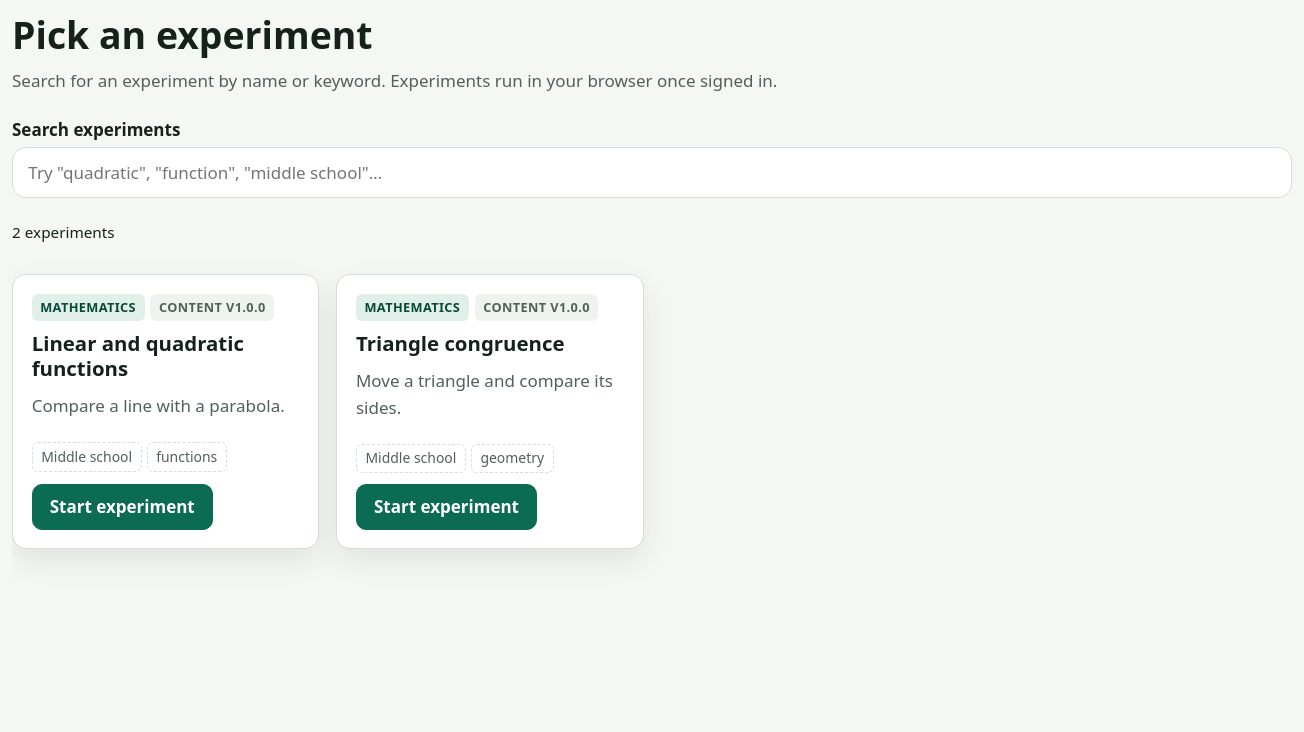
Test: experiment catalog › filters the tool list by what the teacher types
This screenshot has width=1304, height=732.
Expected: the text "2 experiments" is shown, [12,220,115,244]
Type "triangle" into the search field. click: {"x": 652, "y": 173}
box: [12,147,1292,198]
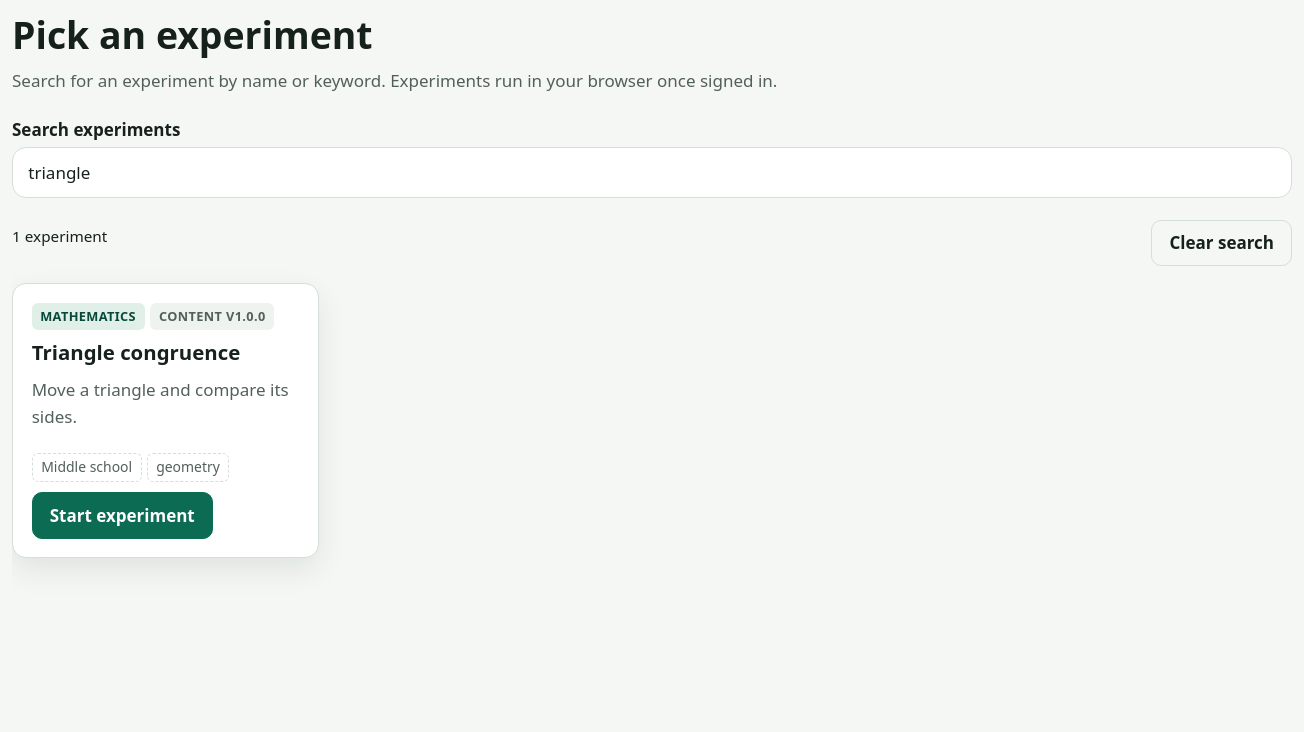
Expected: the element with test id "experiment-card-math-geometry" is shown, [12,283,319,558]
Expected: the text with test id "result-count" reads "1 experiment", [12,226,107,246]
Expected: the element with test id "experiment-card-math-functions" is gone
